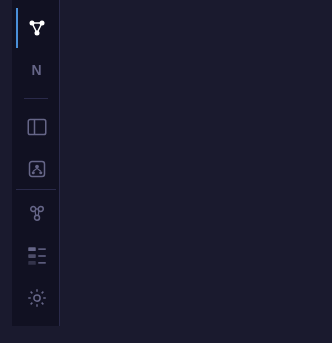
Test: ActivityBar › shows layout popover with three options when clicked (AC-061C-02)
Click the button titled "Layout": (36, 169) [16,149,56,189]
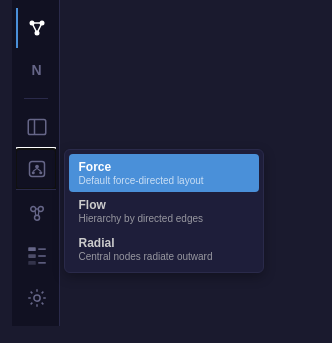
Check: the text "Force" is shown, box [78,160,111,174]
Check: the text "Flow" is shown, box [78,198,106,212]
Check: the text "Radial" is shown, box [78,236,114,250]
